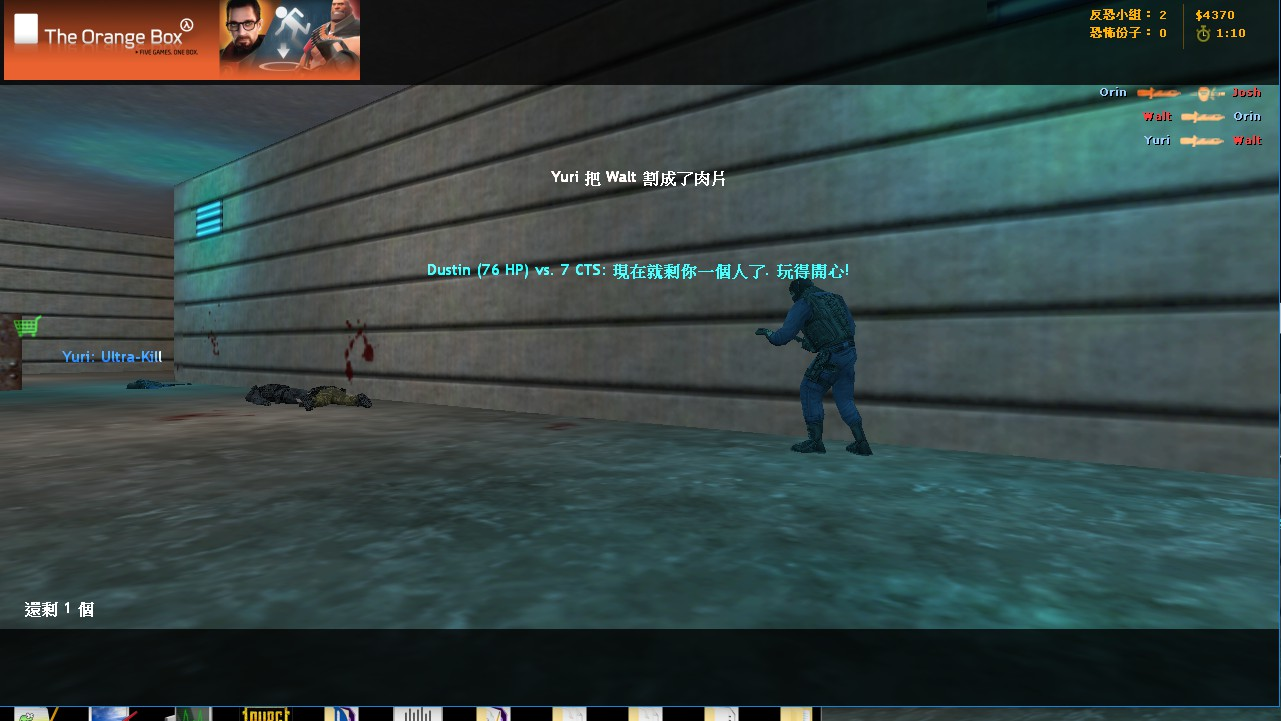person: (769, 275, 875, 454)
